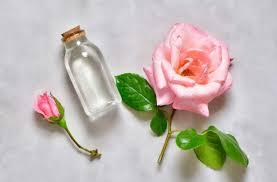Rose: (149, 16, 235, 120), (33, 88, 68, 126)
